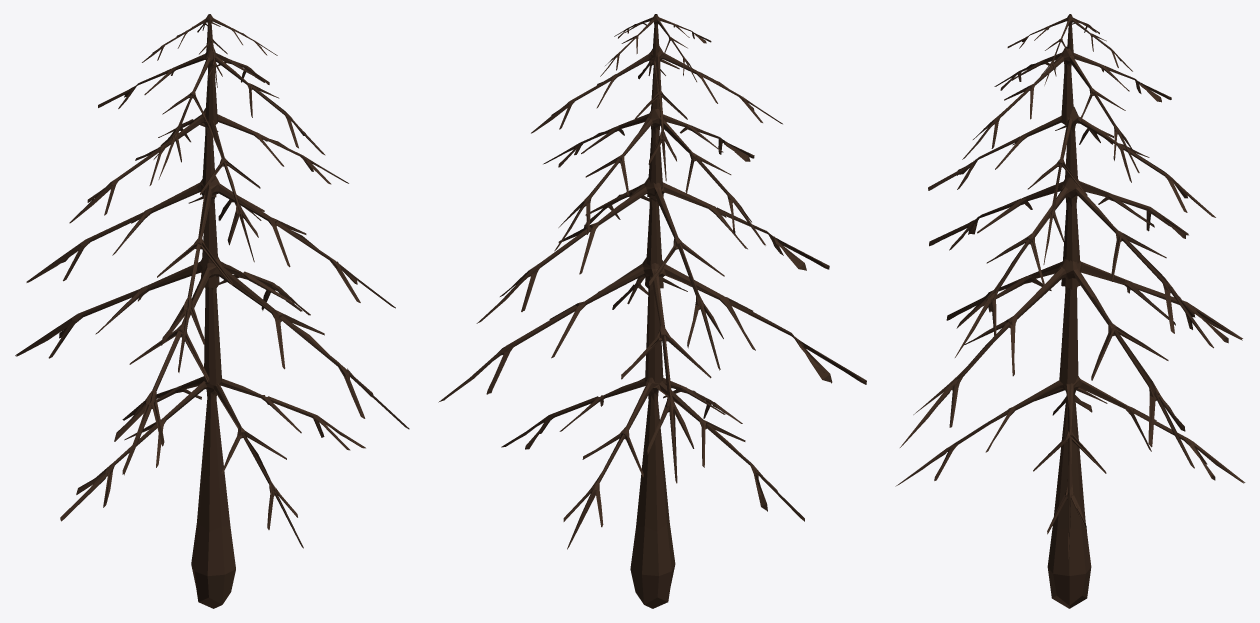
File: Low-poly pine tree (naked).fbx
3 views of the same model, side by side, from view 1: azimuth 30°, elevation 25°; view 2: azimuth 150°, elevation 25°; view 3: azimuth 270°, elevation 25° (orthographic).
Visible parts, largest first — view 1: Cube; view 2: Cube; view 3: Cube.
Boxes of the visible parts, x1,y1,x2,y2 form: Cube: (15,14,409,608); Cube: (438,14,866,608); Cube: (895,14,1245,608).
Bounding box in the file's own units: 423 × 788 × 423.
